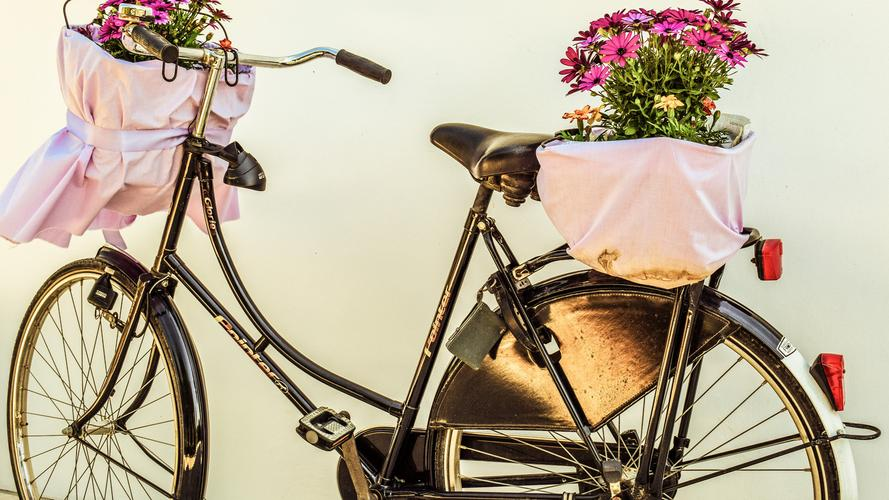单车: (2, 10, 866, 500)
